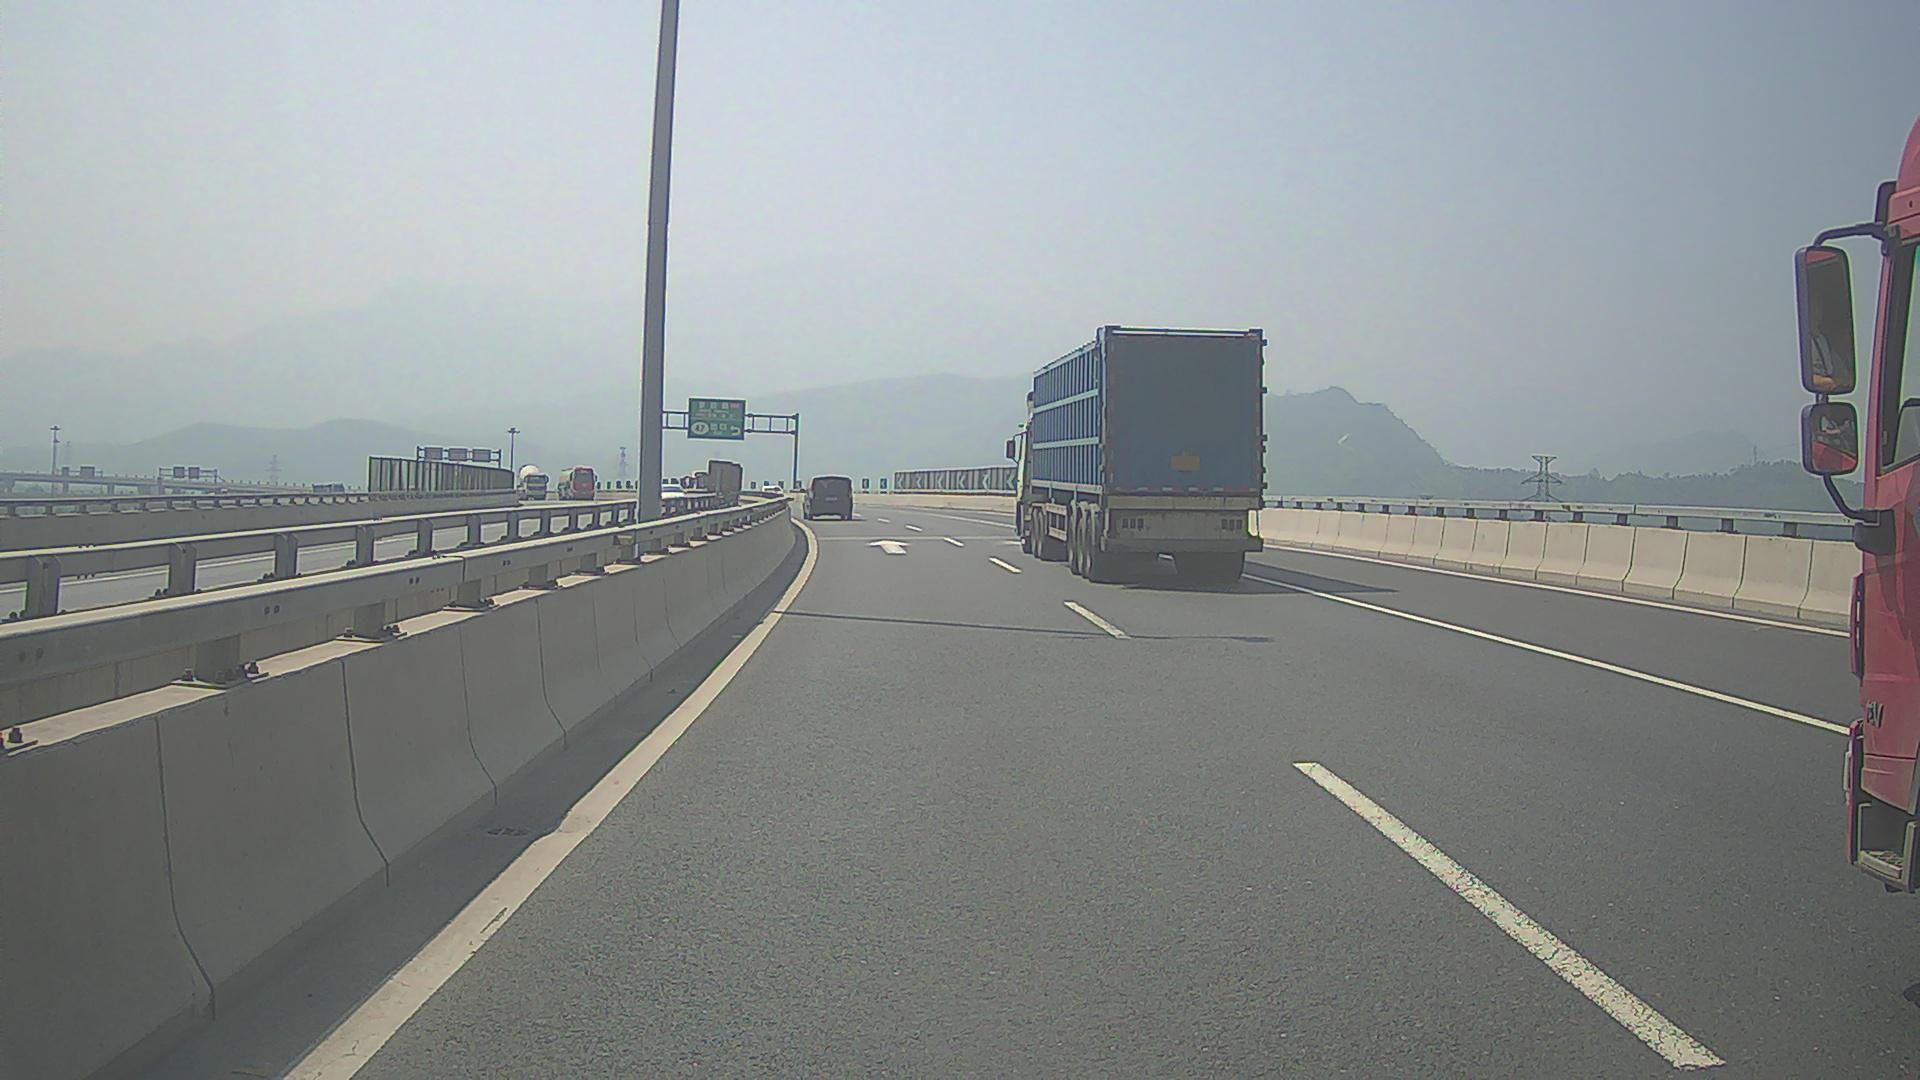car: (658, 484, 687, 506)
truck: (1006, 322, 1267, 582), (556, 465, 597, 501), (514, 464, 547, 498), (313, 483, 345, 498)
van: (799, 473, 853, 520)
